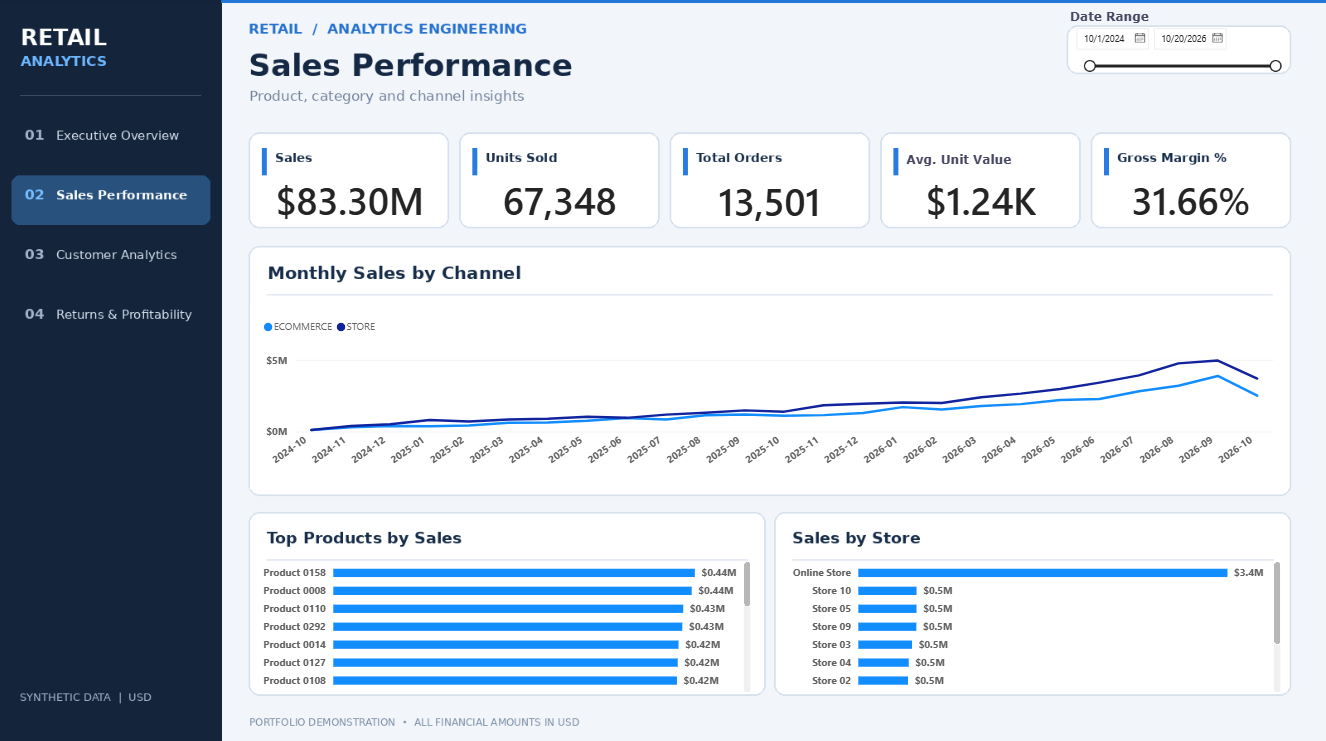

What the dashboard file says about the page in this screenshot:
{"tool":"powerbi","page":{"name":"Sales Performance","canvas":[1600,900],"ordinal":1},"visuals":[{"type":"shape","box":[446.4,680.1,342.3,149.3],"z":0},{"type":"shape","box":[1069.2,683.1,368,149.3],"z":1000},{"type":"shape","box":[1296.9,40.7,179.5,42.2],"z":2000},{"type":"cardVisual","fields":{"Data":["marts fct_order_items.Sales"]},"box":[307,216,228.2,54.3],"z":3000},{"type":"lineChart","title":"Monthly Sales Trend","fields":{"Category":["dim_date.Year Month"],"Series":["marts dim_channel.channel_name"],"Y":["marts fct_order_items.Sales"]},"box":[301.6,368,1250.2,224.7],"z":4000},{"type":"slicer","fields":{"Values":["dim_date.Date"]},"box":[1291.1,32.1,263.7,69.5],"z":5000},{"type":"cardVisual","fields":{"Data":["marts fct_order_items.Units Sold"]},"box":[561,216,228.2,54.3],"z":6000},{"type":"cardVisual","fields":{"Data":["marts fct_order_items.Total Orders"]},"box":[815,216.6,228.2,54.3],"z":7000},{"type":"cardVisual","fields":{"Data":["marts fct_order_items.Average Selling Price"]},"box":[1069,216,228.2,54.3],"z":8000},{"type":"cardVisual","fields":{"Data":["marts fct_order_items.Gross Margin %"]},"box":[1323,216,228.2,54.3],"z":9000},{"type":"barChart","fields":{"Category":["marts dim_store.store_name"],"Y":["marts fct_order_items.Sales"]},"box":[939.5,657.5,621.3,196],"z":10000},{"type":"textbox","box":[1093.8,185.1,176.8,31.5],"z":11000},{"type":"barChart","fields":{"Category":["marts dim_product.product_name"],"Y":["marts fct_order_items.Sales"]},"box":[300.1,657.5,621.3,196],"z":12000},{"type":"textbox","box":[1291,12.1,176.4,31.7],"z":13000},{"type":"actionButton","box":[27.1,147.8,199.1,33.2],"z":13001},{"type":"actionButton","box":[16.6,294.1,209.6,33.2],"z":13003},{"type":"actionButton","box":[25.6,364.9,209.6,33.2],"z":13004}]}

Visuals, with their boxes on the page's 1600x900 design canvas (x1, y1, x2, y2). These are canvas units, not pixel positions in the 1326x741 screenshot, which may show the page scaled, cropped or inside an application window:
shape: x1=446, y1=680, x2=789, y2=829
shape: x1=1069, y1=683, x2=1437, y2=832
shape: x1=1297, y1=41, x2=1476, y2=83
cardVisual - marts fct_order_items.Sales: x1=307, y1=216, x2=535, y2=270
"Monthly Sales Trend" lineChart: x1=302, y1=368, x2=1552, y2=593
slicer - dim_date.Date: x1=1291, y1=32, x2=1555, y2=102
cardVisual - marts fct_order_items.Units Sold: x1=561, y1=216, x2=789, y2=270
cardVisual - marts fct_order_items.Total Orders: x1=815, y1=217, x2=1043, y2=271
cardVisual - marts fct_order_items.Average Selling Price: x1=1069, y1=216, x2=1297, y2=270
cardVisual - marts fct_order_items.Gross Margin %: x1=1323, y1=216, x2=1551, y2=270
barChart - marts dim_store.store_name x marts fct_order_items.Sales: x1=940, y1=658, x2=1561, y2=854
textbox: x1=1094, y1=185, x2=1271, y2=217
barChart - marts dim_product.product_name x marts fct_order_items.Sales: x1=300, y1=658, x2=921, y2=854
textbox: x1=1291, y1=12, x2=1467, y2=44
actionButton: x1=27, y1=148, x2=226, y2=181
actionButton: x1=17, y1=294, x2=226, y2=327
actionButton: x1=26, y1=365, x2=235, y2=398
